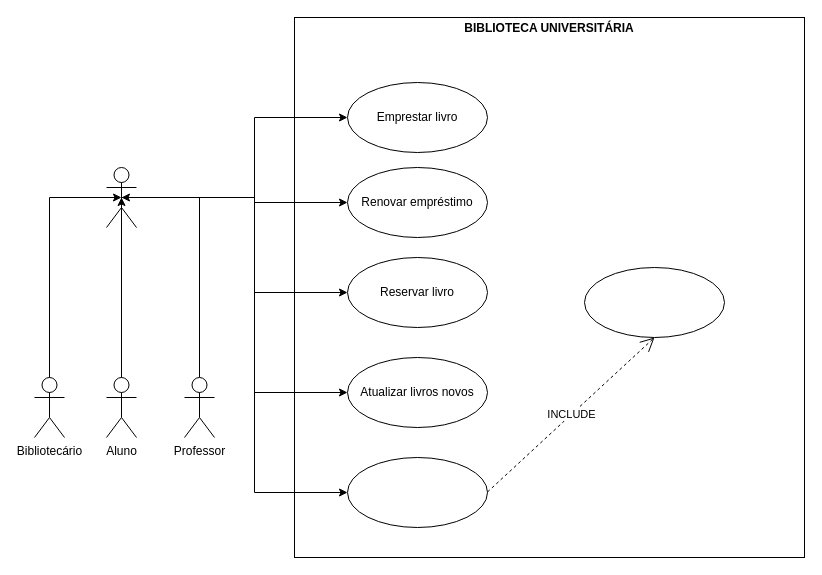
The diagram is 822 pixels wide and 575 high, and some of its shapes have lost their labels. The shapes that lost their labels are listed below. From the top down, each one's centre as x and y in pixels, then its label:
(121,197): Usuário
(654,302): Em caso de atraso, pagar multa
(417,492): Devolução
